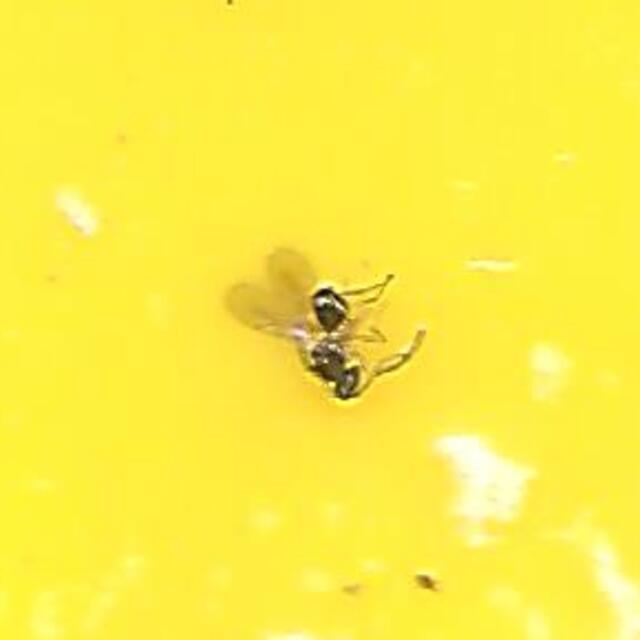Hymenoptera: (221, 233, 419, 407)
